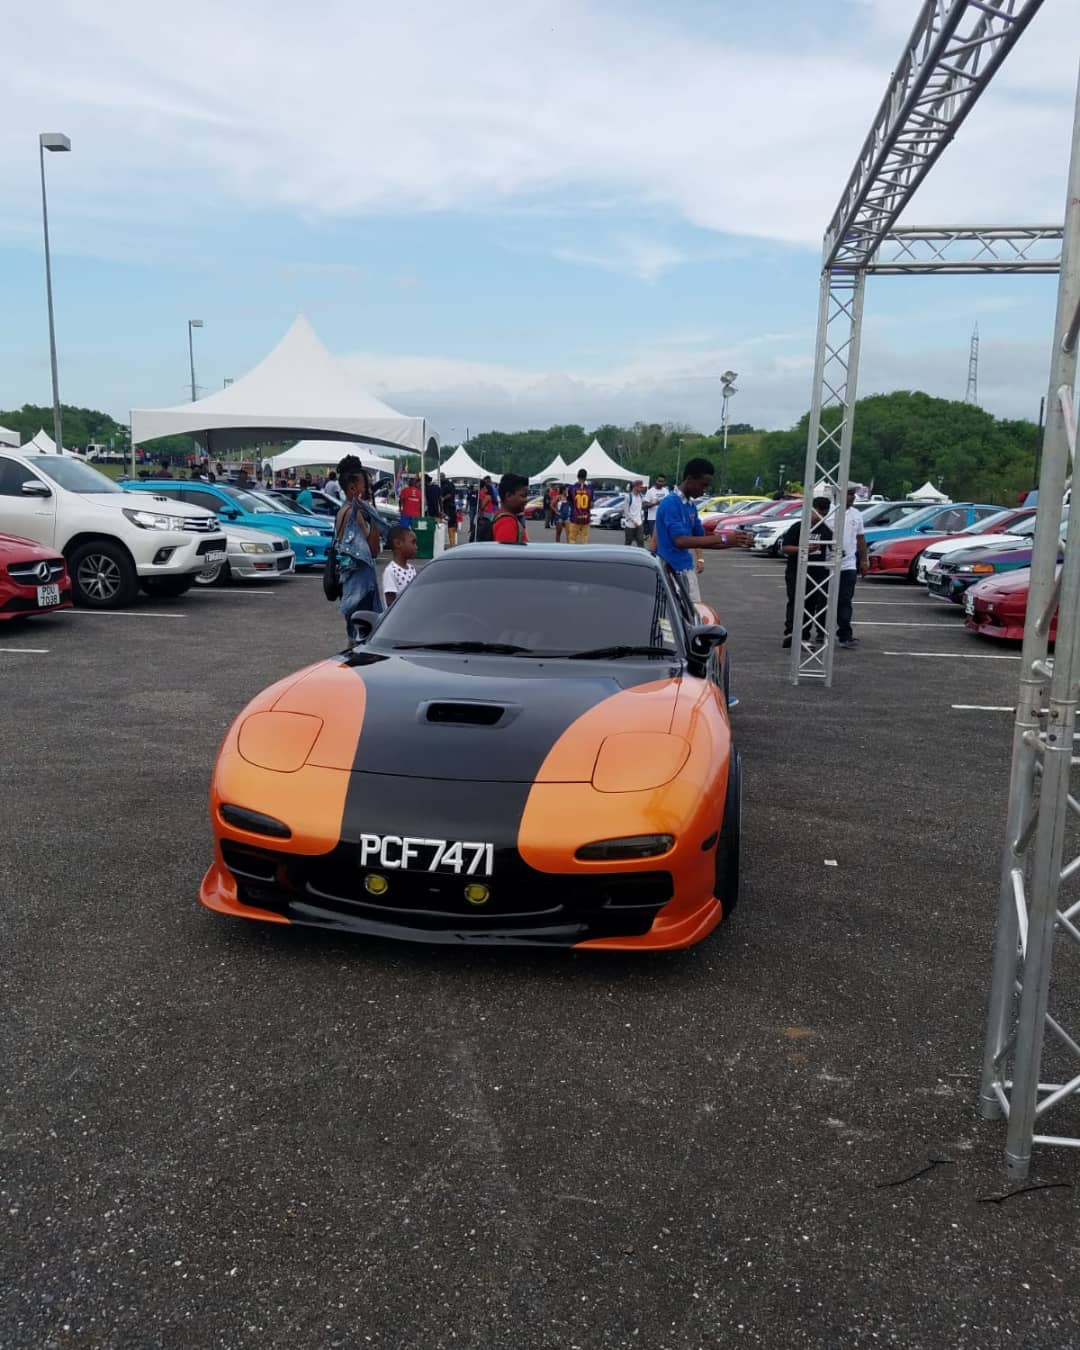License-Plate: (359, 831, 496, 868), (36, 584, 58, 606)
